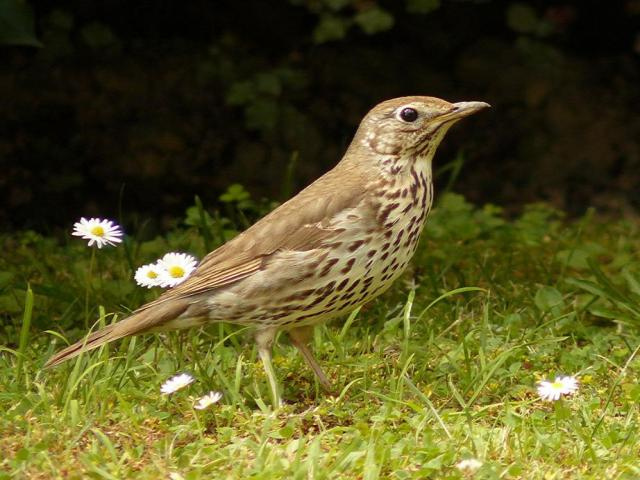Bird: (48, 99, 490, 393)
